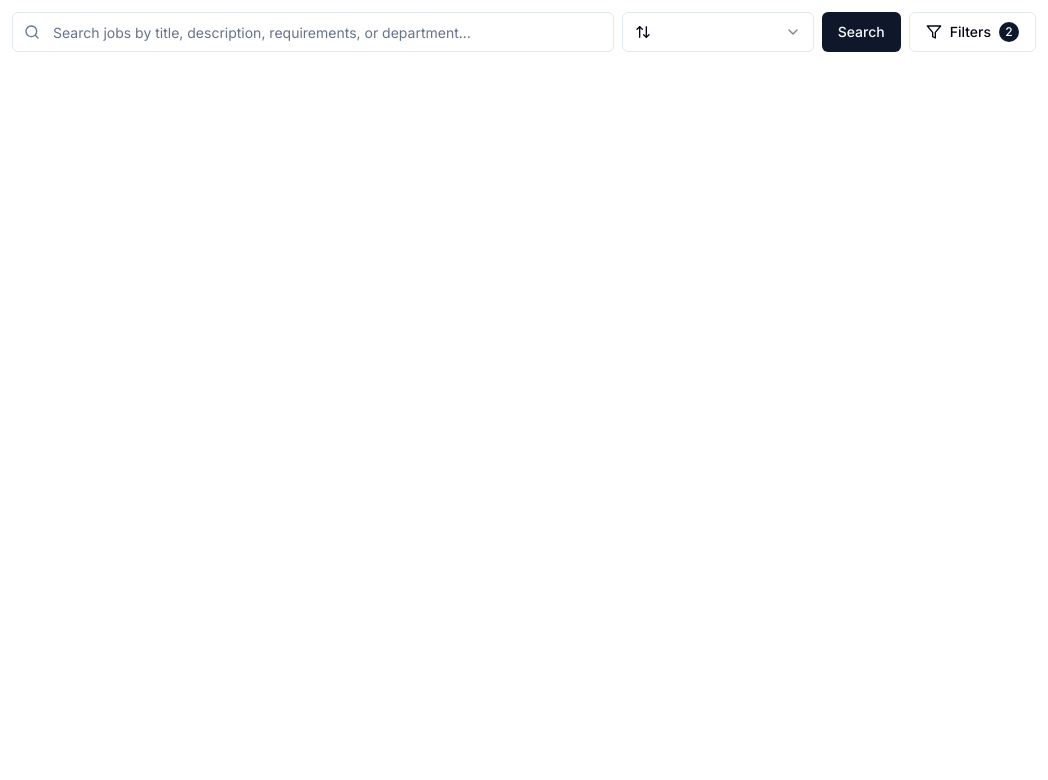
JobSearchFilters › Clear Filters › should show clear button when filters are active
The image size is (1048, 780).
Note: Open advanced filters
What coordinates should you click on to do the following:
click the button "Filters 2"
I would click on:
 (972, 32)
Its box is top-left (909, 12), bottom-right (1036, 52).
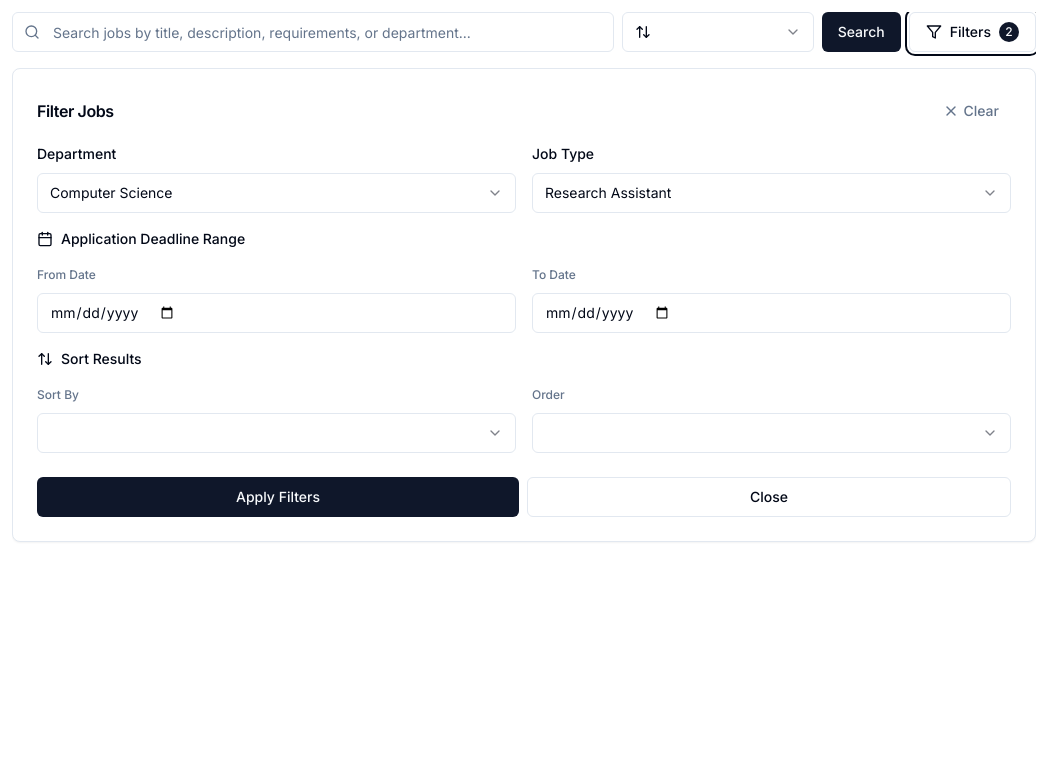
Check: the button "Clear" is shown, box top-left (932, 93), bottom-right (1011, 129)
